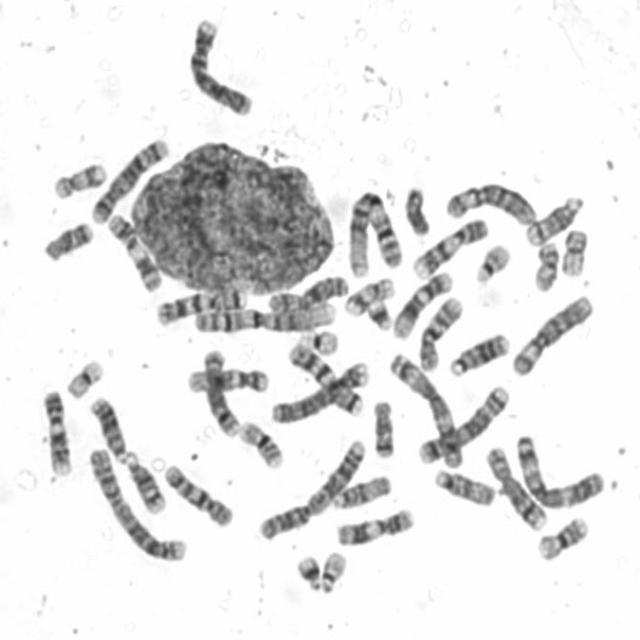A1: (343, 187, 404, 278), (188, 300, 338, 336)
A2: (254, 435, 370, 544), (85, 443, 188, 562)
A3: (386, 349, 464, 470), (512, 431, 606, 509)
B4: (186, 15, 255, 117), (267, 358, 370, 424)
B5: (415, 381, 511, 466), (87, 135, 171, 225)
C10: (160, 459, 235, 528), (415, 293, 465, 372)
C11: (103, 209, 164, 295), (333, 504, 414, 548)
C12: (390, 268, 454, 340), (183, 363, 270, 395)
C6: (508, 291, 596, 378), (441, 178, 538, 227)
C7: (284, 339, 364, 417), (153, 284, 249, 328)
C8: (482, 442, 547, 532), (199, 345, 241, 438)
C9: (409, 213, 490, 280), (39, 388, 73, 477)
D13: (87, 393, 132, 465), (446, 329, 510, 378)
D14: (521, 193, 585, 247), (121, 449, 168, 516)
D15: (431, 466, 497, 507), (328, 471, 393, 511)
E16: (534, 512, 590, 562), (235, 417, 286, 470)
E17: (50, 158, 109, 202), (342, 275, 396, 317)
E18: (40, 217, 95, 263), (369, 396, 397, 461)
F19: (63, 356, 106, 400), (295, 327, 341, 355)
F20: (556, 229, 592, 277), (530, 237, 560, 293)
G21: (293, 550, 324, 593), (363, 296, 394, 332)
G22: (471, 239, 514, 285), (317, 546, 348, 594)
X: (264, 272, 351, 315)
Y: (401, 182, 432, 236)
